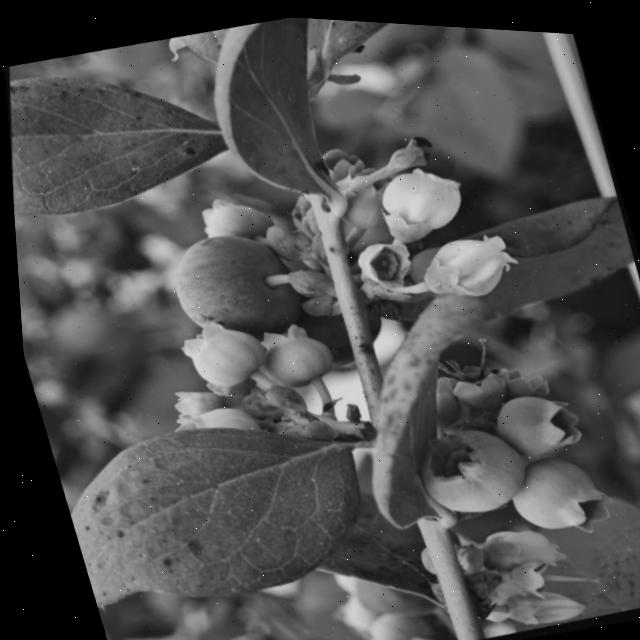RipeBlueBerry: (143, 200, 319, 362)
UnripeBlueBerry: (391, 393, 546, 536)
